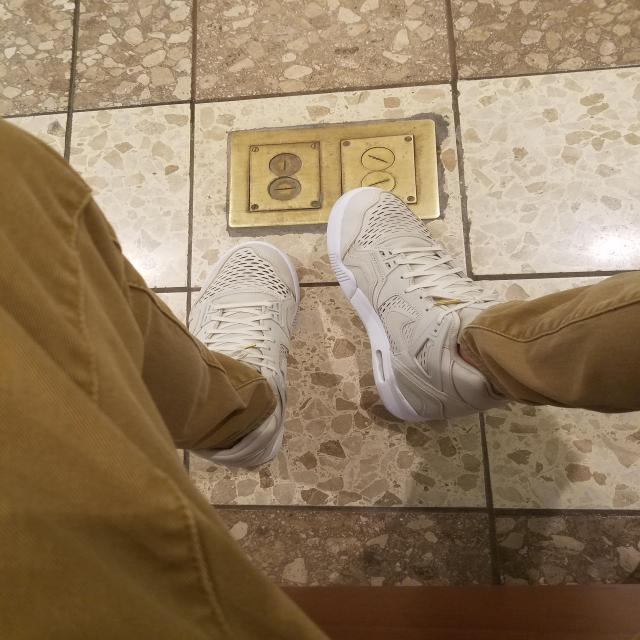shoe: (318, 181, 523, 433), (172, 226, 320, 477)
